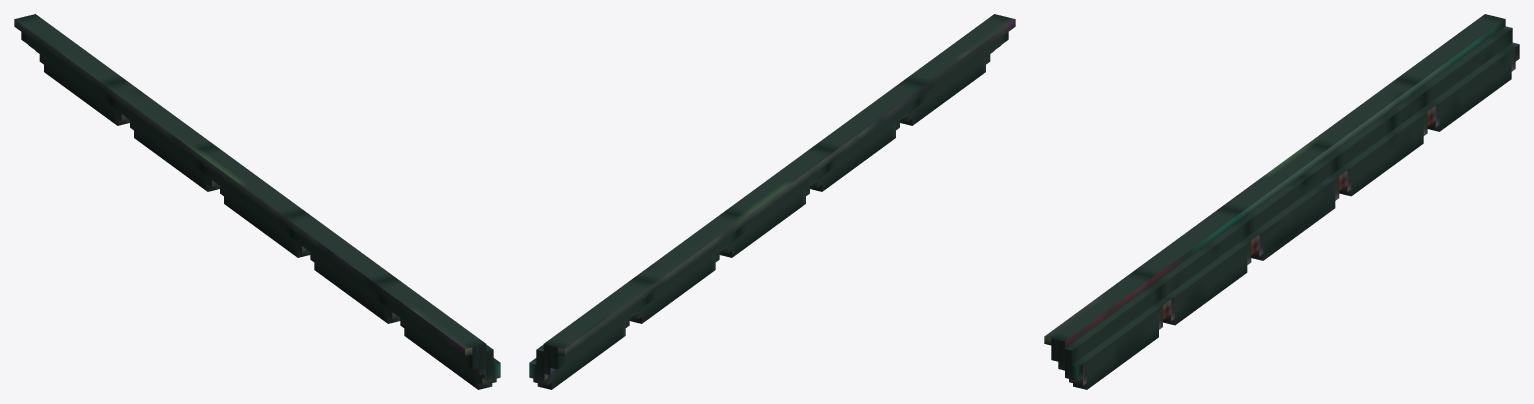
The model's file is Awning_00.fbx.
The picture shows the model from 3 angles, left to right: view 1: azimuth 30°, elevation 25°; view 2: azimuth 150°, elevation 25°; view 3: azimuth 330°, elevation 25°; orthographic projection. The views are drawn at different scales.
Visible parts, largest first — view 1: Awning_00; view 2: Awning_00; view 3: Awning_00.
Boxes of the visible parts, bbox=[...] form: Awning_00: bbox=[14, 14, 500, 389]; Awning_00: bbox=[529, 14, 1015, 389]; Awning_00: bbox=[1044, 14, 1519, 389].
Bounding box in the file's own units: 25 × 35 × 550.
